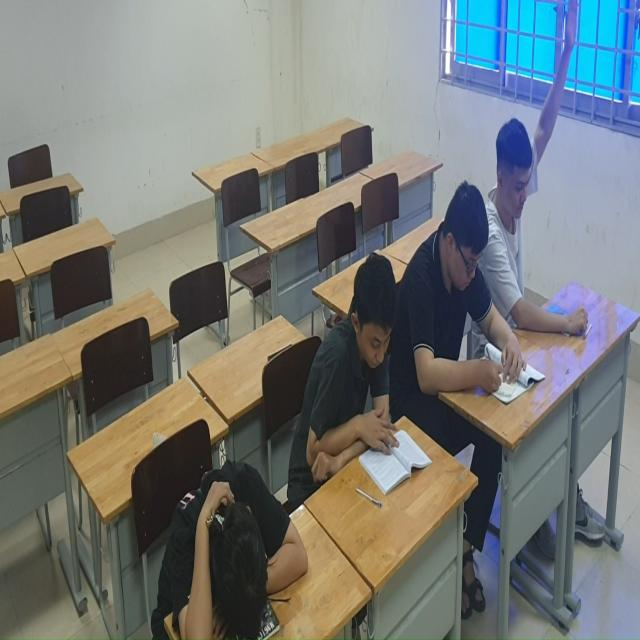raise_hand: (484, 1, 604, 350)
read: (299, 244, 421, 504), (417, 184, 529, 431)
sleep: (155, 440, 311, 640)
